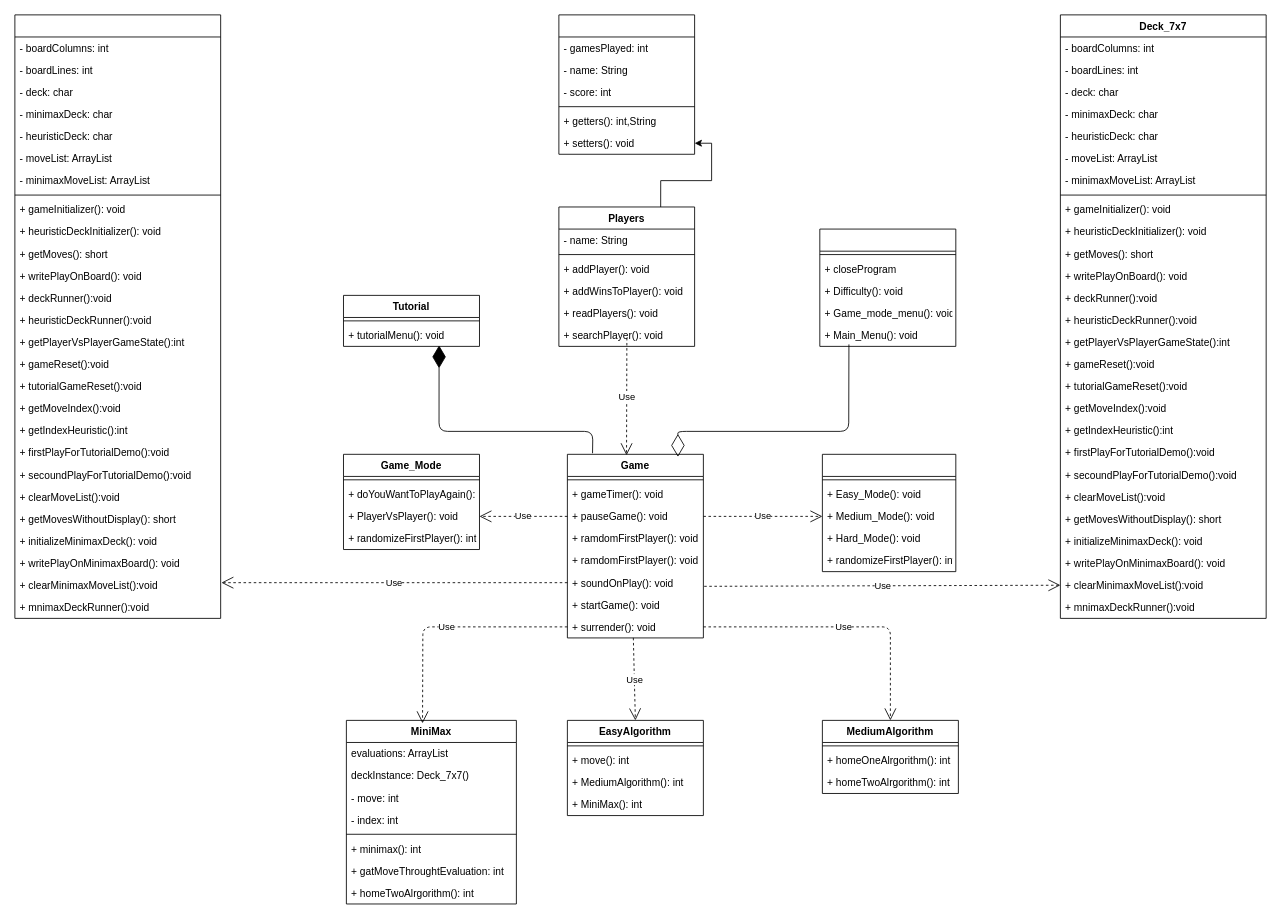
Some shapes in this 1282 by 921 pixel diagram are drawn without their labels. Here are the shapes that lost their labels. From the top down, the box of each, then its label:
(558, 14, 695, 154): Player
(819, 228, 956, 346): Menus
(14, 14, 221, 618): Deck_8x8
(822, 453, 956, 572): Game_Difficulty
